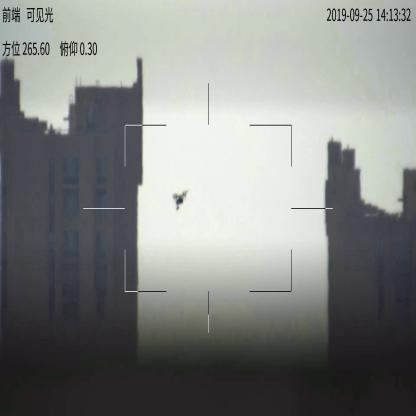uav: (171, 190, 188, 210)
